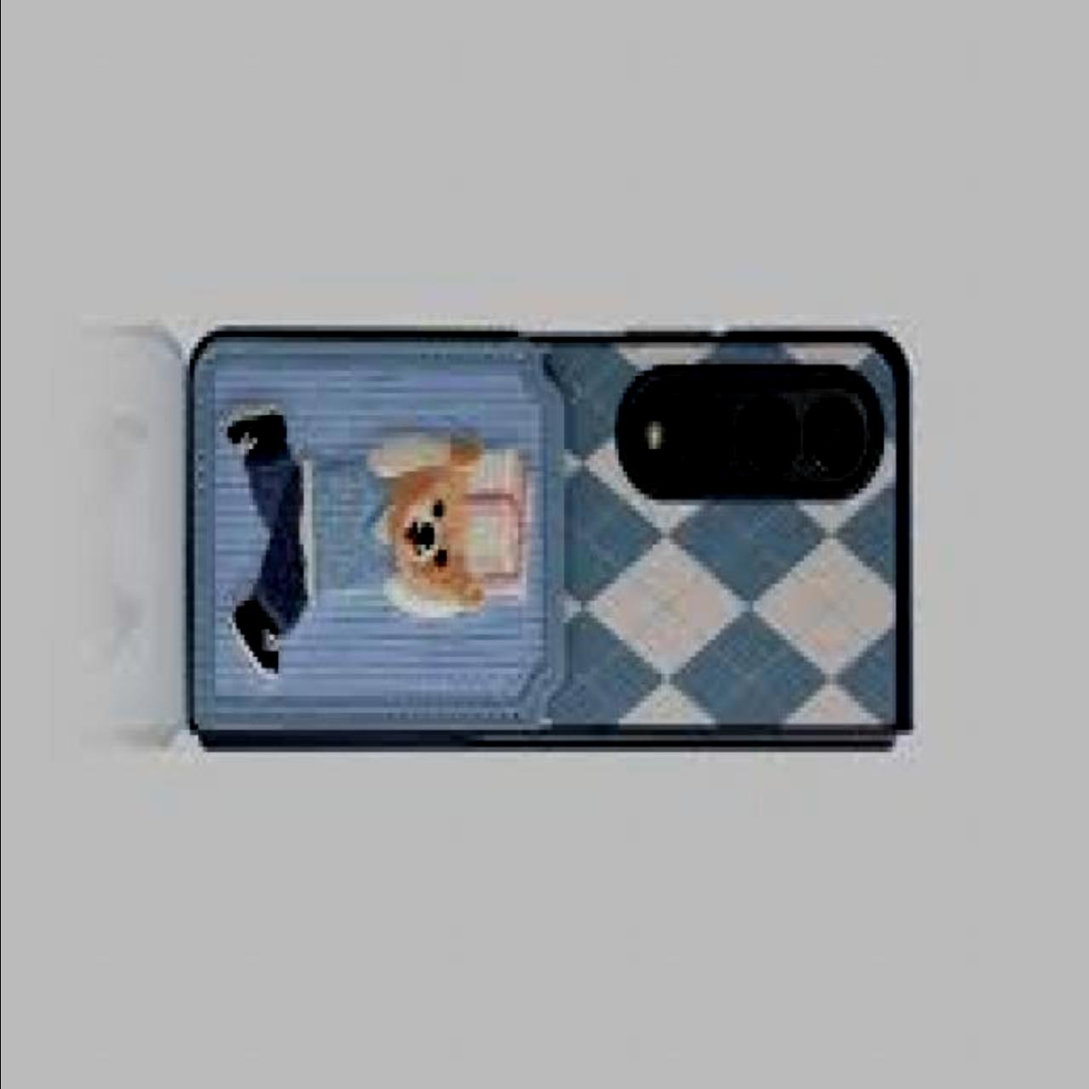phone: (185, 328, 913, 753)
